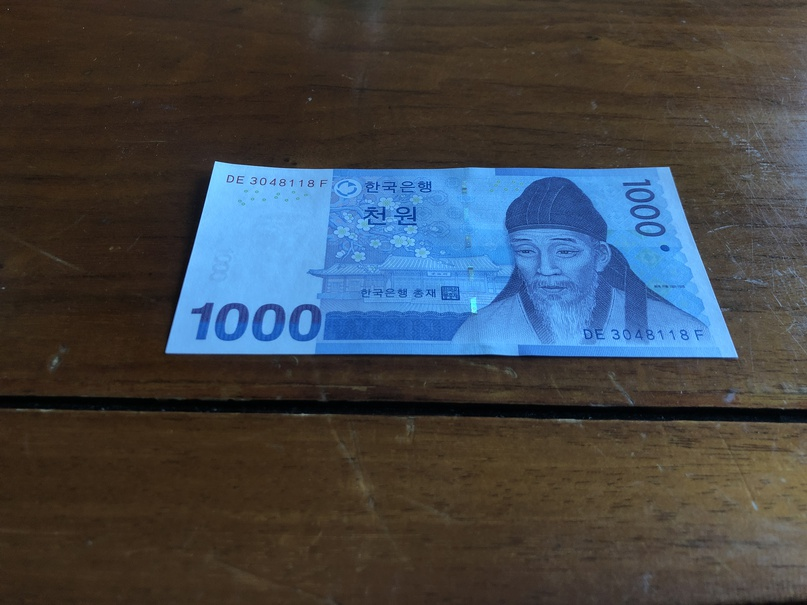1000won: (165, 160, 737, 358)
